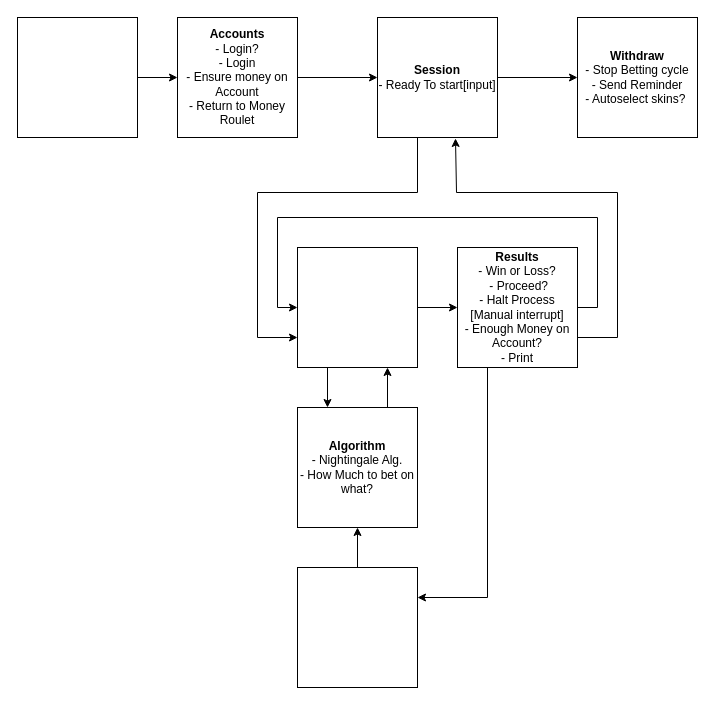
Image size: 715x705. Some labels were removed from this diagram. The centre of each missing label's shape, as x and y in pixels:
Betting - Place Bet - How Much?[Algorithm] - How much in Pot: [357,307]
Connect - Connect to Website - Status - Go to roulette - Check Previous streak: [77,77]
History - Keep Track of Last 24Hrs: [357,627]
